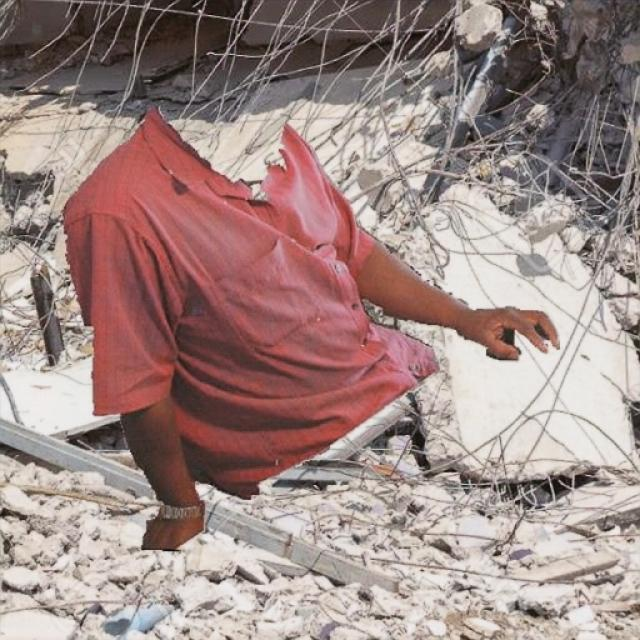Person in Rubble: (62, 106, 558, 550)
